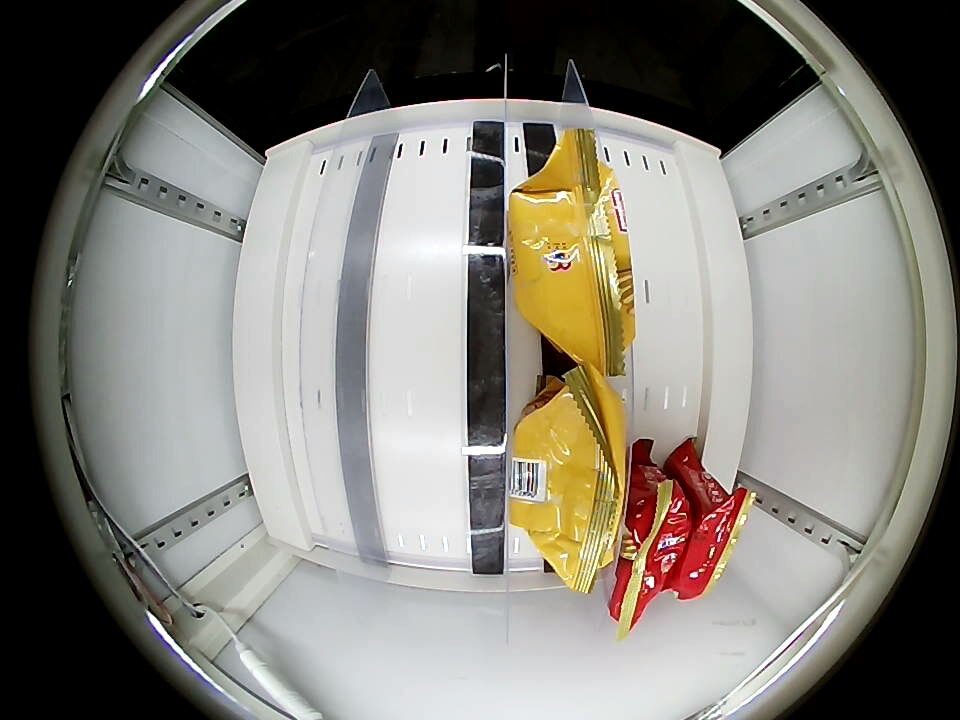kaomo_gali: (507, 163, 635, 371), (507, 373, 627, 577)
kaomo_shaokao: (608, 457, 692, 622), (675, 485, 749, 599)
